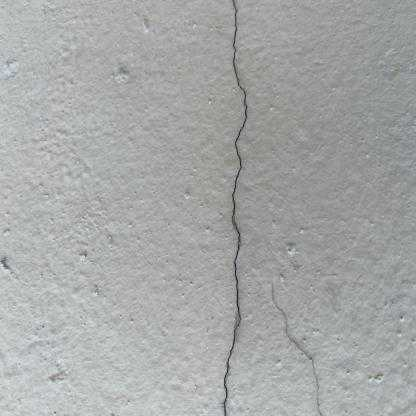crack: (232, 0, 248, 331), (224, 332, 236, 415)
